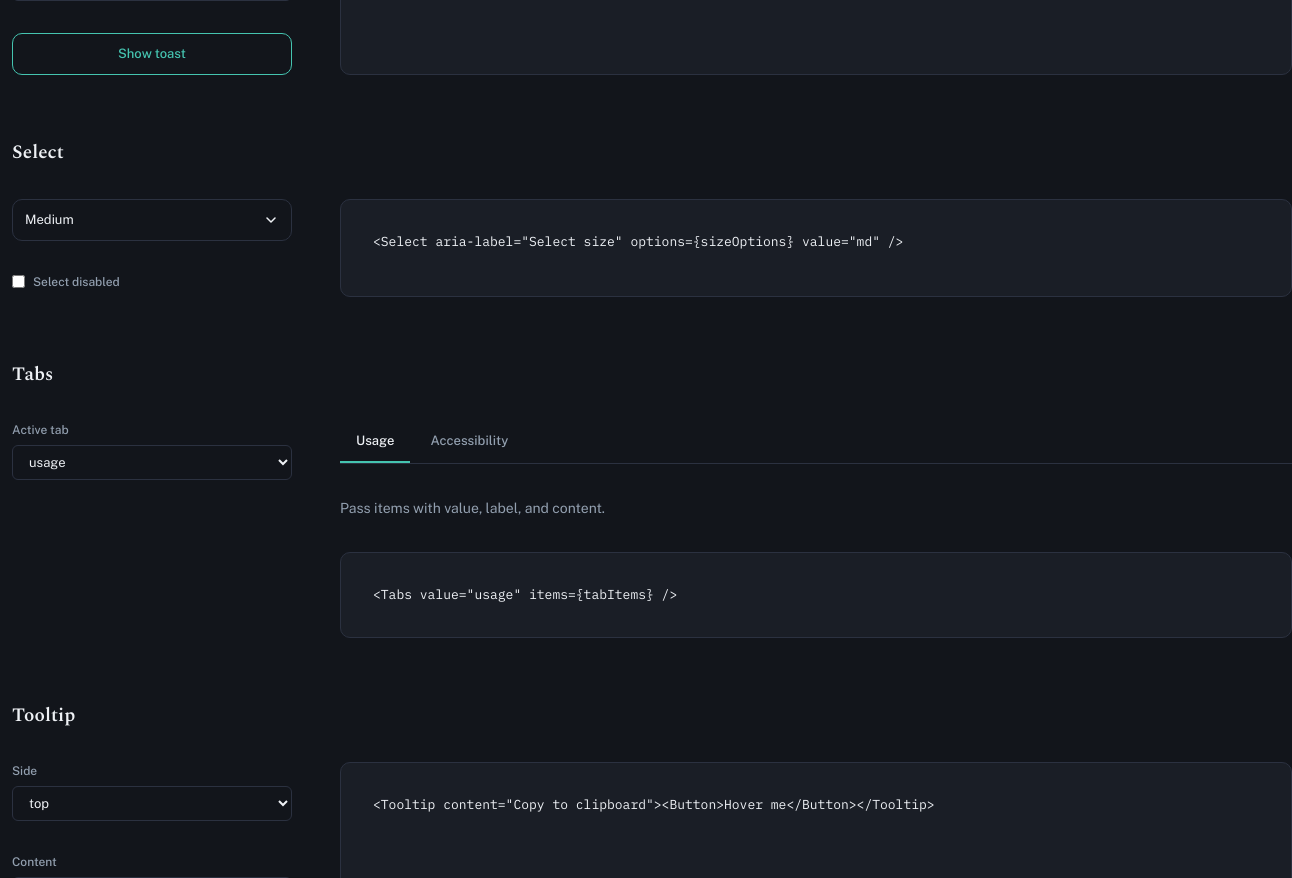
Test: PlaygroundControls › updates the generated Tabs snippet when the active tab changes
(page scrolled)
Step 1. Click the tab "Accessibility" → (469, 442), box [414,421,524,462]
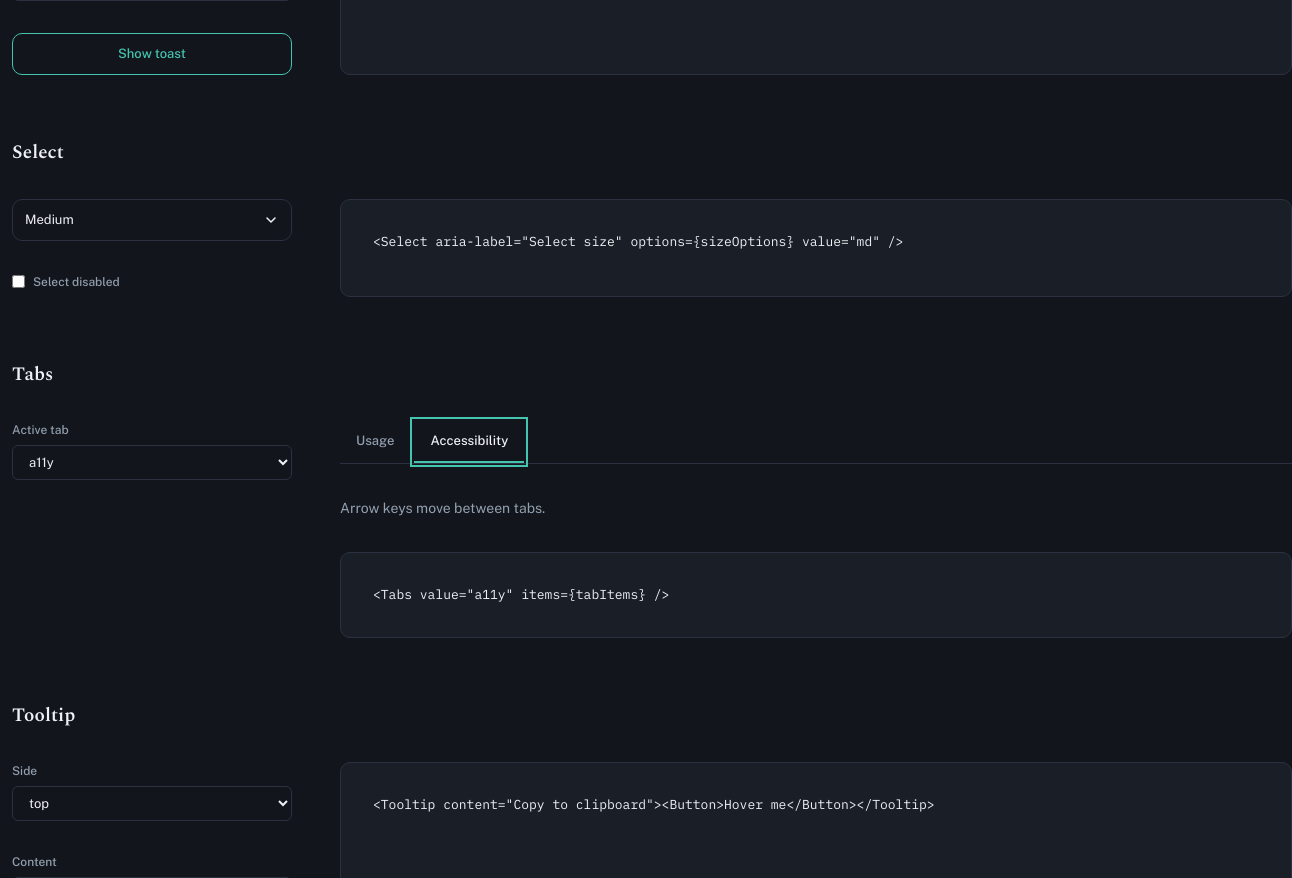
Expected: the text "<Tabs value=\"a11y\" items={tabItems} />" is shown, [340,552,1291,638]
Expected: the panel reads "Arrow keys move between tabs.", [340,500,545,516]
